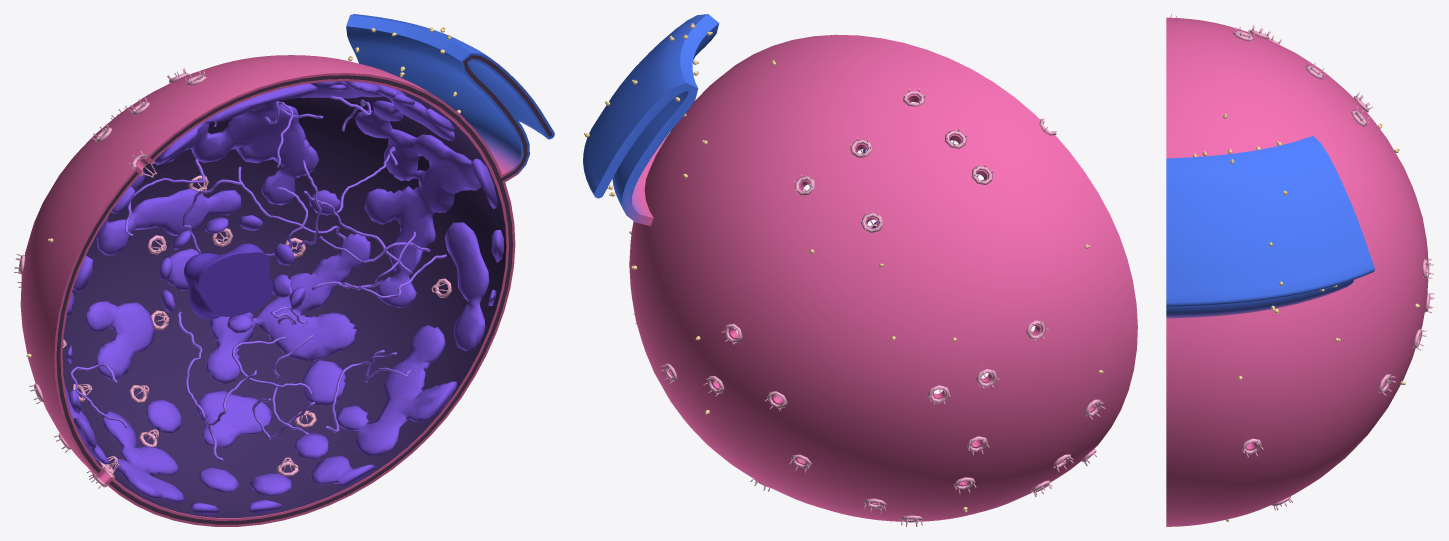
The model's file is nucleo.glb.
3 views of the same model, side by side, from view 1: azimuth 30°, elevation 25°; view 2: azimuth 150°, elevation 25°; view 3: azimuth 270°, elevation 25° (orthographic). The views are drawn at different scales.
Parts seen in each view (by area): view 1: nucleoplasma, heterocromatina, membrana_externa, reticulo_endoplasmatico, eucromatina, espaco_perinuclear, nucleolo, membrana_interna, poros_nucleares, lumen_do_reticulo; view 2: membrana_externa, reticulo_endoplasmatico, poros_nucleares; view 3: membrana_externa, reticulo_endoplasmatico, poros_nucleares, ribossomos.
Part boxes in pixels (left/top/right/bottom): nucleoplasma: left=62, top=90, right=506, bottom=517; heterocromatina: left=65, top=81, right=503, bottom=515; membrana_externa: left=20, top=55, right=515, bottom=526; reticulo_endoplasmatico: left=346, top=14, right=554, bottom=181; eucromatina: left=70, top=95, right=446, bottom=460; espaco_perinuclear: left=56, top=75, right=512, bottom=524; nucleolo: left=184, top=243, right=273, bottom=319; membrana_interna: left=60, top=79, right=508, bottom=520; poros_nucleares: left=14, top=68, right=451, bottom=488; lumen_do_reticulo: left=463, top=55, right=552, bottom=179; membrana_externa: left=629, top=34, right=1137, bottom=521; reticulo_endoplasmatico: left=583, top=14, right=719, bottom=225; poros_nucleares: left=633, top=88, right=1105, bottom=526; membrana_externa: left=1166, top=17, right=1428, bottom=526; reticulo_endoplasmatico: left=1166, top=136, right=1374, bottom=318; poros_nucleares: left=1170, top=14, right=1434, bottom=510; ribossomos: left=1193, top=113, right=1419, bottom=521.
Size of the model in its own units: 6.77 by 5.69 by 3.06.
